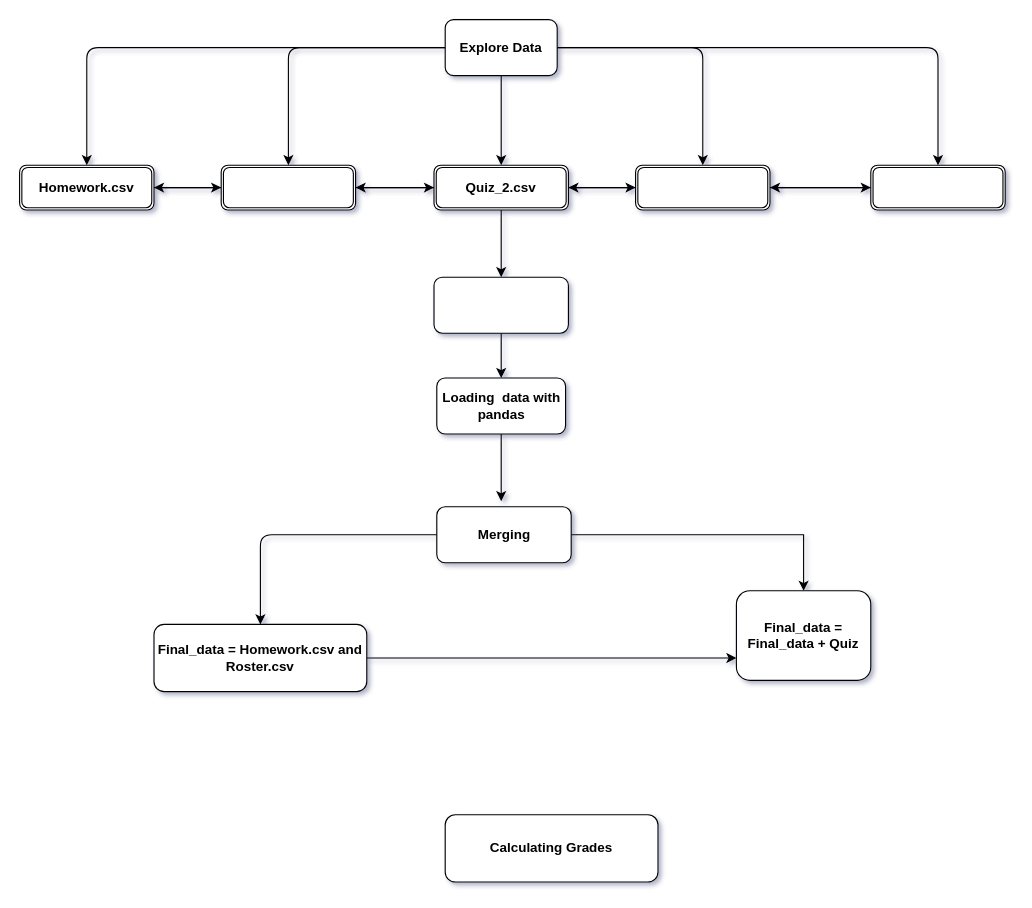
Some shapes in this 1032 by 908 pixel diagram are drawn without their labels. Here are the shapes that lost their labels. From the top down, the centre of each, then its label:
At [288,187]: "Quiz_1.csv".
At [702,187]: "Quiz_3.csv".
At [937,187]: "Roster.csv".
At [500,304]: "Deciding On The final Format".
